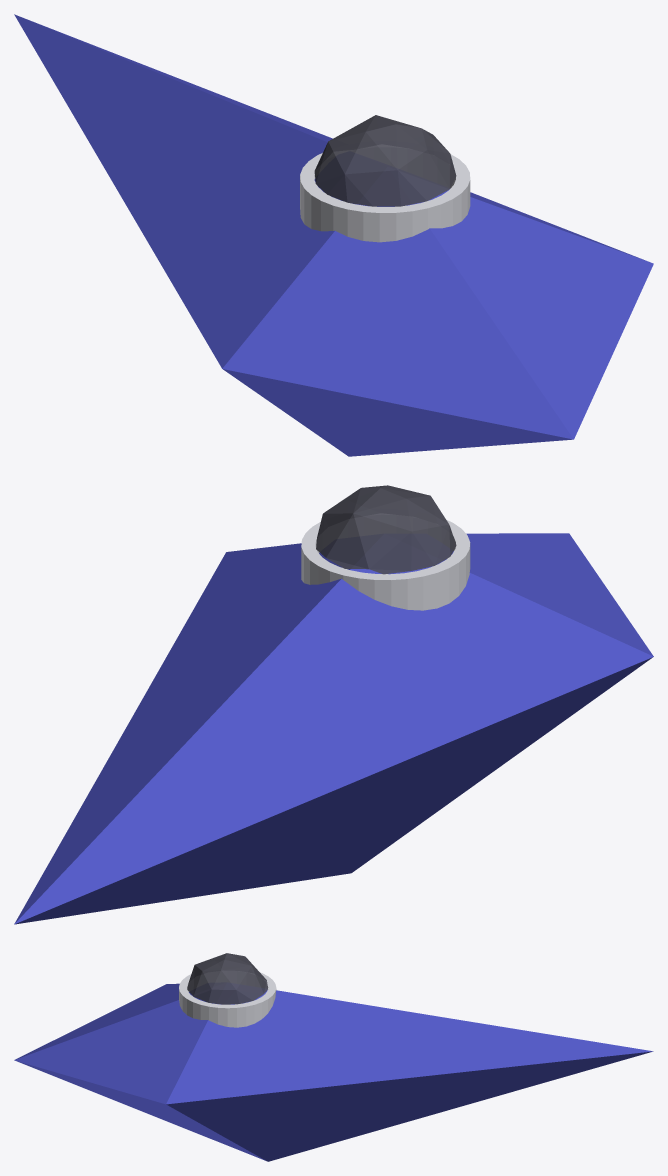
File: SpaceShips.fbx
The picture shows the model from 3 angles, top to bottom: view 1: azimuth 30°, elevation 25°; view 2: azimuth 150°, elevation 25°; view 3: azimuth 270°, elevation 25°; orthographic projection. The views are drawn at different scales.
Parts seen in each view (by area): view 1: Cube_008; view 2: Cube_008; view 3: Cube_008.
Boxes of the visible parts, x1,y1,x2,y2 form: Cube_008: (14, 14, 653, 456); Cube_008: (14, 485, 653, 924); Cube_008: (14, 953, 653, 1161).
Size of the model in its own units: 3.44 by 2.73 by 7.72.
